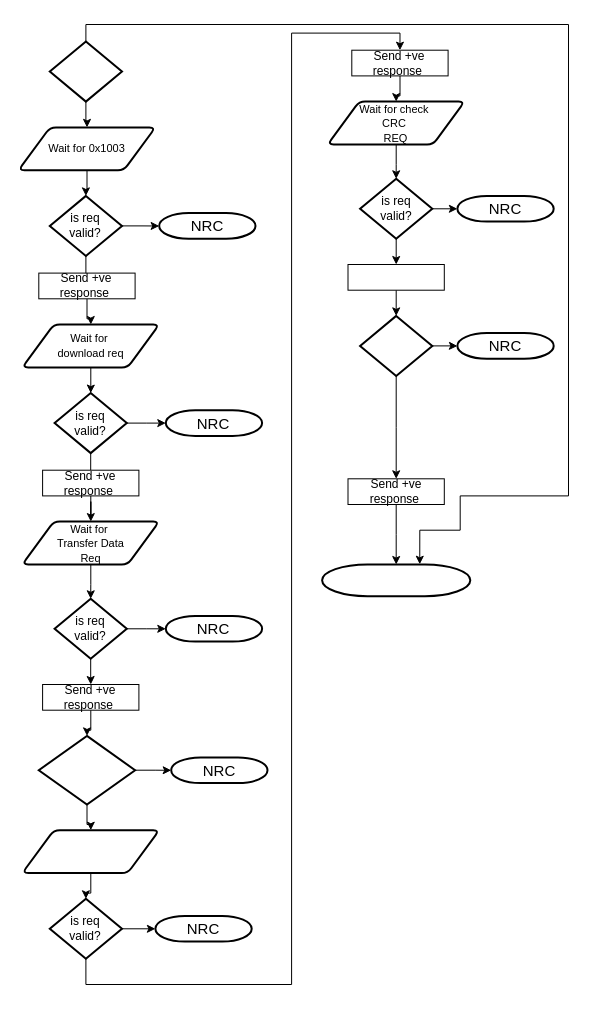
Some shapes in this 594 by 1010 pixel diagram are drawn without their labels. Here are the shapes that lost their labels. From the top down, the box of each, then its label:
(48, 40, 122, 102): is app exist
(347, 264, 444, 290): Calculate CRC
(359, 314, 433, 376): is CRC valid?
(321, 563, 471, 597): Jump to start address
(37, 734, 136, 805): Is all Data Recived
(21, 829, 160, 874): Wait for Exit Req
